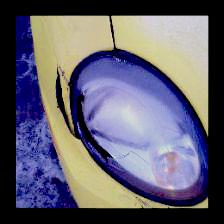head_lamp: (31, 66, 123, 185)
